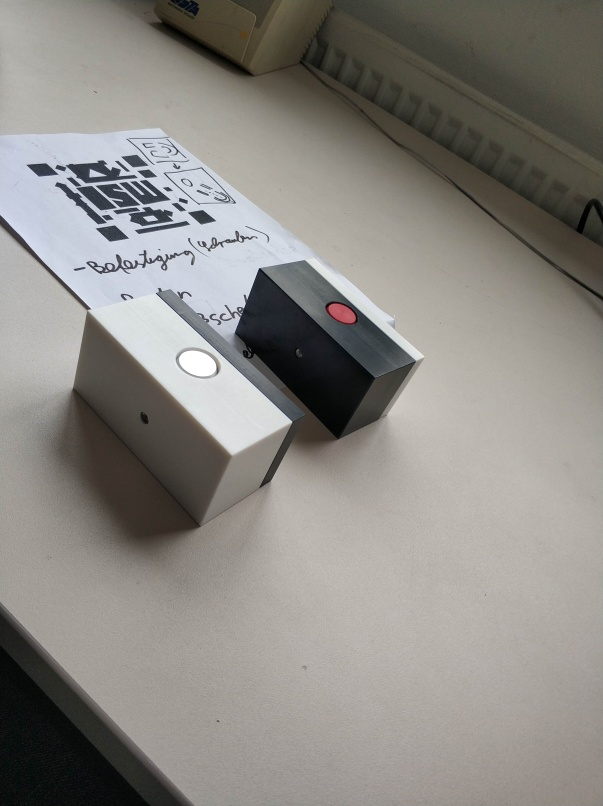black+white+silver: (70, 289, 309, 533)
white+black+red: (236, 260, 430, 441)
